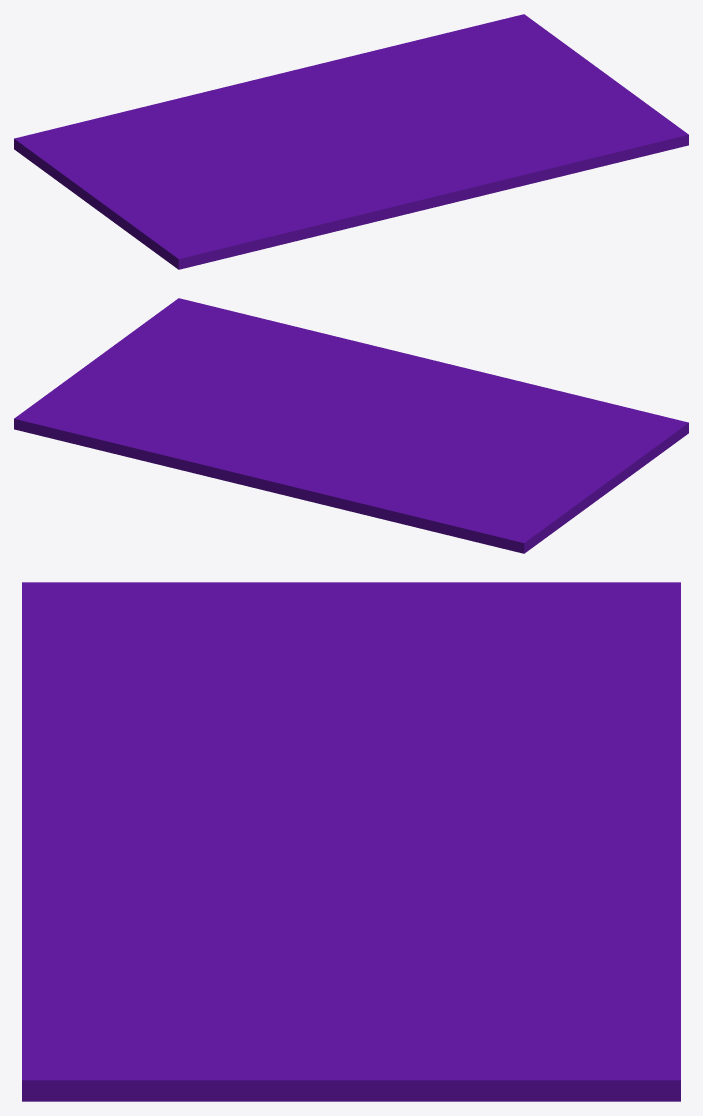
The model's file is Exhibition_19.012_chunks.fbx.
3 renders of one model, top to bottom at view 1: azimuth 30°, elevation 25°; view 2: azimuth 150°, elevation 25°; view 3: azimuth 270°, elevation 25°, orthographic. The views are drawn at different scales.
Visible parts, largest first — view 1: Exhibition_19.012_1, Exhibition_19.012_3, Exhibition_19.012_2, Exhibition_19.012_0; view 2: Exhibition_19.012_1, Exhibition_19.012_3, Exhibition_19.012_2, Exhibition_19.012_0; view 3: Exhibition_19.012_3, Exhibition_19.012_1, Exhibition_19.012_2, Exhibition_19.012_0.
Boxes of the visible parts, left/top/right/bottom form: Exhibition_19.012_1: left=14, top=133, right=346, bottom=269; Exhibition_19.012_3: left=298, top=14, right=650, bottom=134; Exhibition_19.012_2: left=338, top=107, right=688, bottom=228; Exhibition_19.012_0: left=36, top=69, right=356, bottom=140; Exhibition_19.012_1: left=361, top=383, right=688, bottom=553; Exhibition_19.012_3: left=14, top=326, right=343, bottom=487; Exhibition_19.012_2: left=141, top=298, right=528, bottom=420; Exhibition_19.012_0: left=240, top=419, right=501, bottom=541; Exhibition_19.012_3: left=158, top=837, right=680, bottom=1101; Exhibition_19.012_1: left=22, top=582, right=680, bottom=823; Exhibition_19.012_2: left=22, top=738, right=354, bottom=1101; Exhibition_19.012_0: left=342, top=604, right=680, bottom=859.
Bounding box in the file's own units: 642 × 12.85 × 359.
